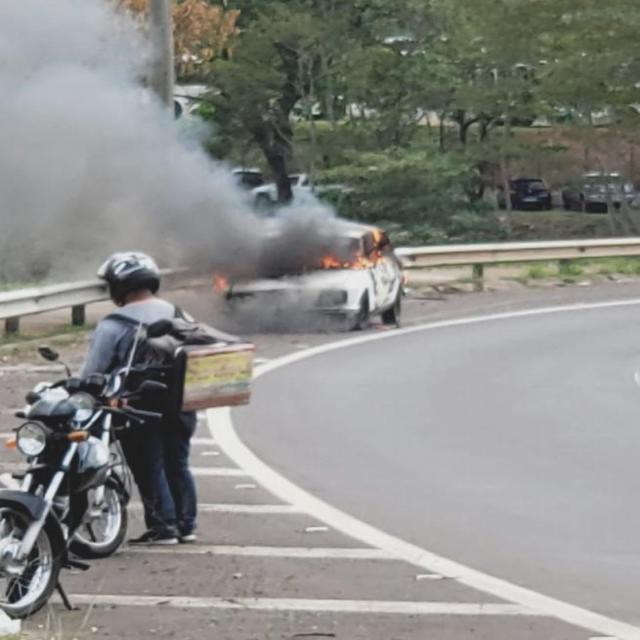Fire: (316, 250, 368, 266), (210, 270, 230, 289)
